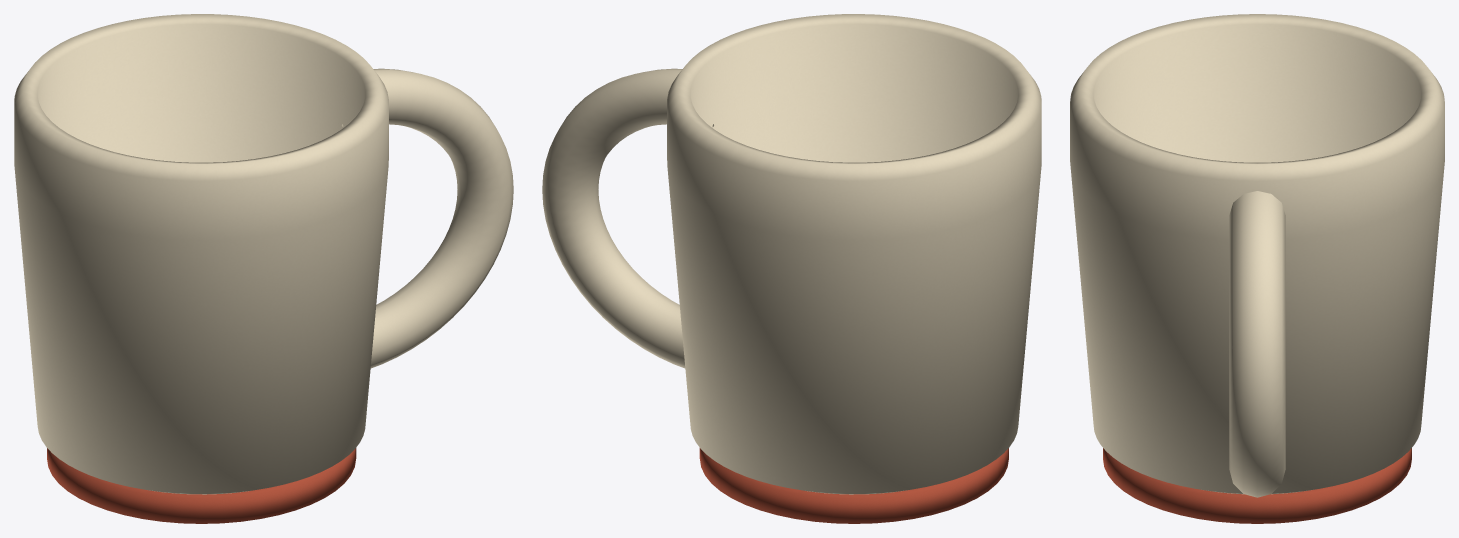
Rendered from mug_01.glb.
3 views of the same model, side by side, from view 1: azimuth 30°, elevation 25°; view 2: azimuth 150°, elevation 25°; view 3: azimuth 270°, elevation 25° (orthographic).
Visible parts, largest first — view 1: mug_01; view 2: mug_01; view 3: mug_01.
Part boxes in pixels (bbox=[...]): mug_01: bbox=[14, 14, 513, 523]; mug_01: bbox=[542, 14, 1041, 523]; mug_01: bbox=[1070, 14, 1444, 523].
Bounding box in the file's own units: 0.116 × 0.087 × 0.08.
2 materials, 2 textured.
